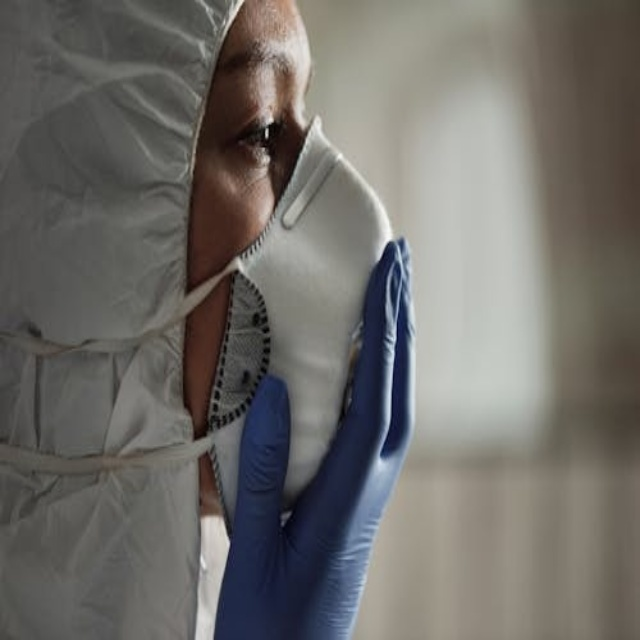Guantes: (208, 237, 419, 640)
Mascara: (207, 113, 395, 530)
Sin_gafas: (202, 42, 319, 172)
